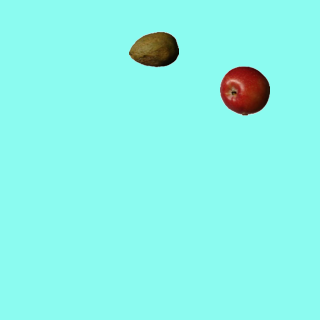Apple Braeburn: (219, 65, 269, 115)
Papaya: (128, 24, 178, 74)
